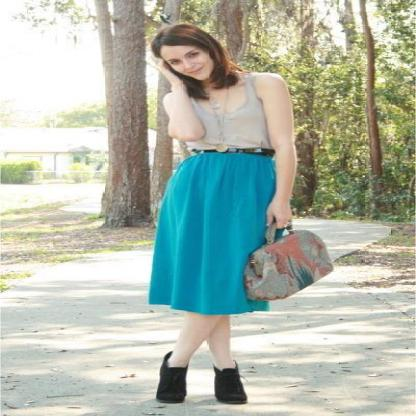bag: (242, 230, 333, 302)
shirt: (172, 75, 274, 157)
shoe: (157, 358, 247, 404)
skirt: (148, 152, 276, 314)
